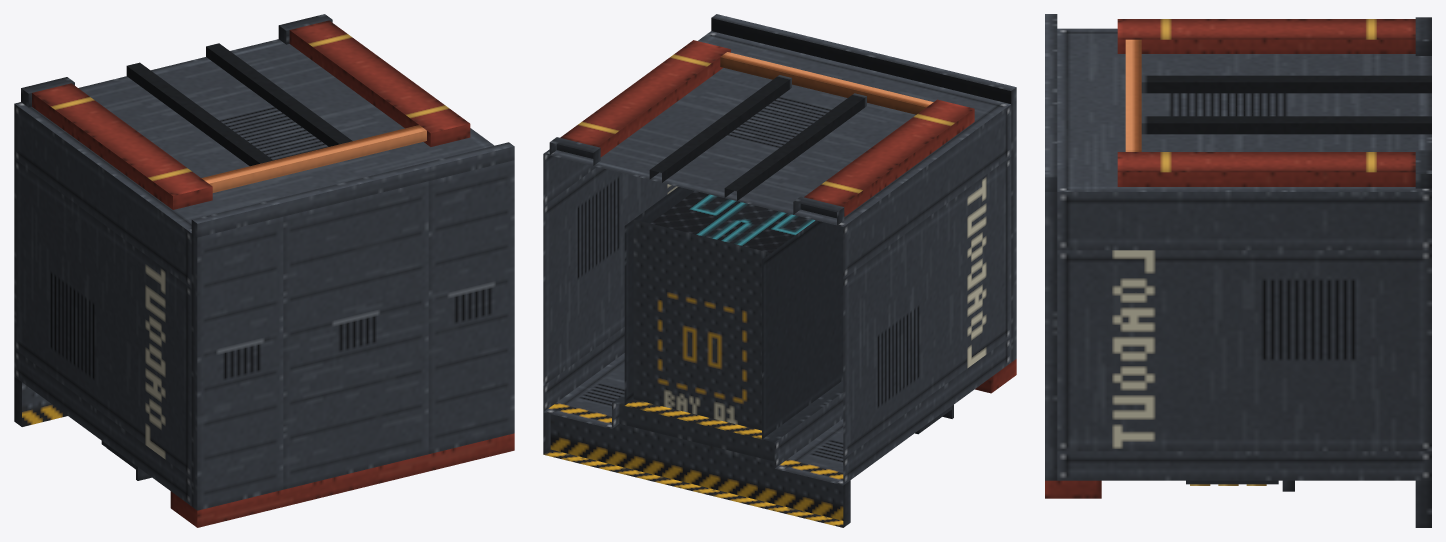
The model's file is loadout_station.obj.
The picture shows the model from 3 angles, left to right: view 1: azimuth 30°, elevation 25°; view 2: azimuth 150°, elevation 25°; view 3: azimuth 270°, elevation 25°; orthographic projection. The views are drawn at different scales.
Visible parts, largest first — view 1: loadout_station_Roof_C, loadout_station_Rear, loadout_station_Col_ctrl_b, loadout_station_Roof_R, loadout_station_Roof_L, loadout_station_Tank_R, loadout_station_Tank_L, loadout_station_Roof_back, loadout_station_Fascia, loadout_station_Col_ctrl_f, loadout_station_Manifold, loadout_station_Cable_a (+2 smaller); view 2: loadout_station_Rear, loadout_station_Col_ctrl_b, loadout_station_Floor, loadout_station_Col_coin_b, loadout_station_Wall_R, loadout_station_Apron, loadout_station_Col_ctrl_f, loadout_station_Tank_R, loadout_station_Tank_L, loadout_station_Roof_back, loadout_station_Back, loadout_station_Col_coin_f (+9 smaller); view 3: loadout_station_Col_coin_b, loadout_station_Rear, loadout_station_Col_coin_f, loadout_station_Tank_L, loadout_station_Tank_R, loadout_station_Cable_b, loadout_station_Cable_a, loadout_station_Roof_L, loadout_station_Roof_back, loadout_station_Manifold, loadout_station_Fascia, loadout_station_Apron (+3 smaller).
Boxes of the visible parts, x1,y1,x2,y2 form: loadout_station_Roof_C: (283,181,428,489); loadout_station_Rear: (14,39,493,288); loadout_station_Col_ctrl_b: (14,159,191,478); loadout_station_Roof_R: (191,217,283,510); loadout_station_Roof_L: (428,160,514,453); loadout_station_Tank_R: (32,83,212,209); loadout_station_Tank_L: (289,20,470,146); loadout_station_Roof_back: (191,142,514,237); loadout_station_Fascia: (170,433,514,527); loadout_station_Col_ctrl_f: (14,349,191,505); loadout_station_Manifold: (201,125,426,192); loadout_station_Cable_a: (126,62,273,166); loadout_station_Rear: (543,31,1011,278); loadout_station_Col_ctrl_b: (843,157,1011,458); loadout_station_Floor: (625,219,770,439); loadout_station_Col_coin_b: (543,167,677,385); loadout_station_Wall_R: (762,220,843,442); loadout_station_Apron: (543,412,850,527); loadout_station_Col_ctrl_f: (774,337,1011,485); loadout_station_Tank_R: (804,99,974,216); loadout_station_Tank_L: (560,40,730,157); loadout_station_Roof_back: (711,14,1016,103); loadout_station_Back: (650,191,815,252); loadout_station_Col_coin_f: (543,327,624,428); loadout_station_Col_coin_b: (1057,250,1431,451); loadout_station_Rear: (1057,28,1431,250); loadout_station_Col_coin_f: (1057,451,1431,480); loadout_station_Tank_L: (1117,152,1415,186); loadout_station_Tank_R: (1117,19,1415,53); loadout_station_Cable_b: (1141,116,1431,134); loadout_station_Cable_a: (1141,75,1431,93); loadout_station_Roof_L: (1045,192,1057,480); loadout_station_Roof_back: (1045,14,1057,191); loadout_station_Manifold: (1125,39,1141,151); loadout_station_Fascia: (1045,480,1101,498); loadout_station_Apron: (1415,480,1431,527).
Bounding box in the file's own units: 3 × 3 × 3.
